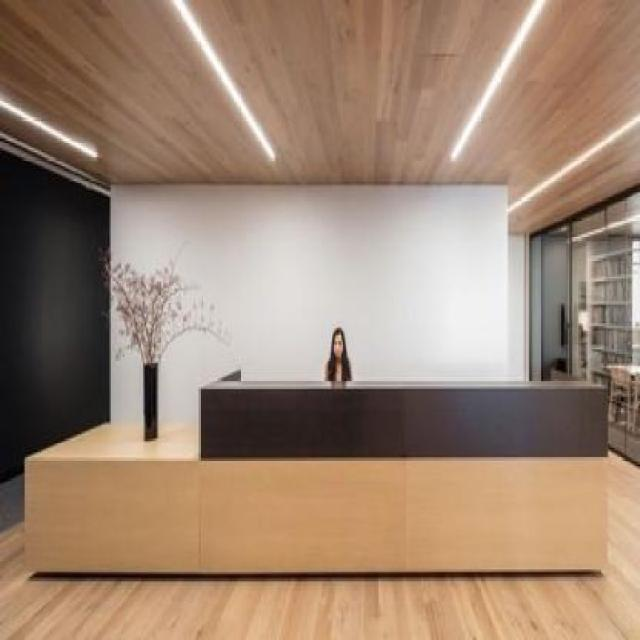frontdesk: (19, 354, 618, 587)
